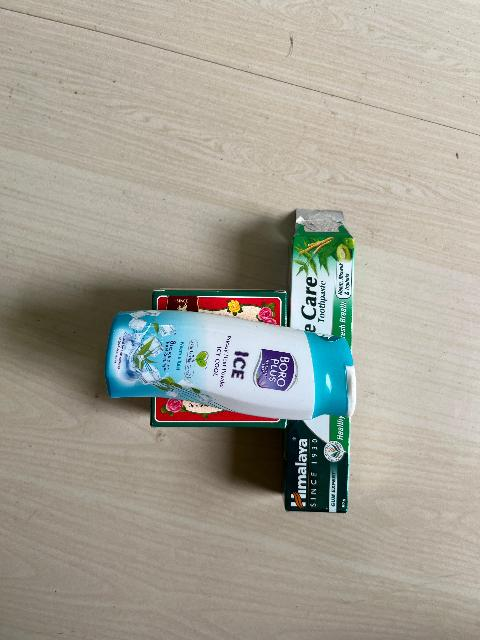boroplus: (108, 310, 339, 423)
himalaya toothpaste: (291, 424, 348, 512)
mysore sandal soap: (142, 285, 287, 320)
